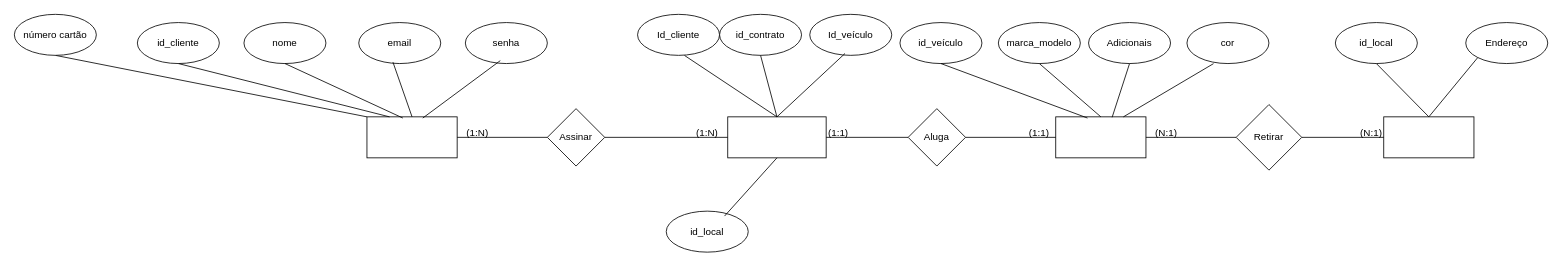
This 1562x267 diagram has some shape labels left out. Each missing label, with the box of its shape:
cliente: (366, 116, 457, 158)
contrato_aluguel: (727, 116, 826, 158)
local: (1383, 116, 1474, 158)
veiculo: (1055, 116, 1146, 158)
